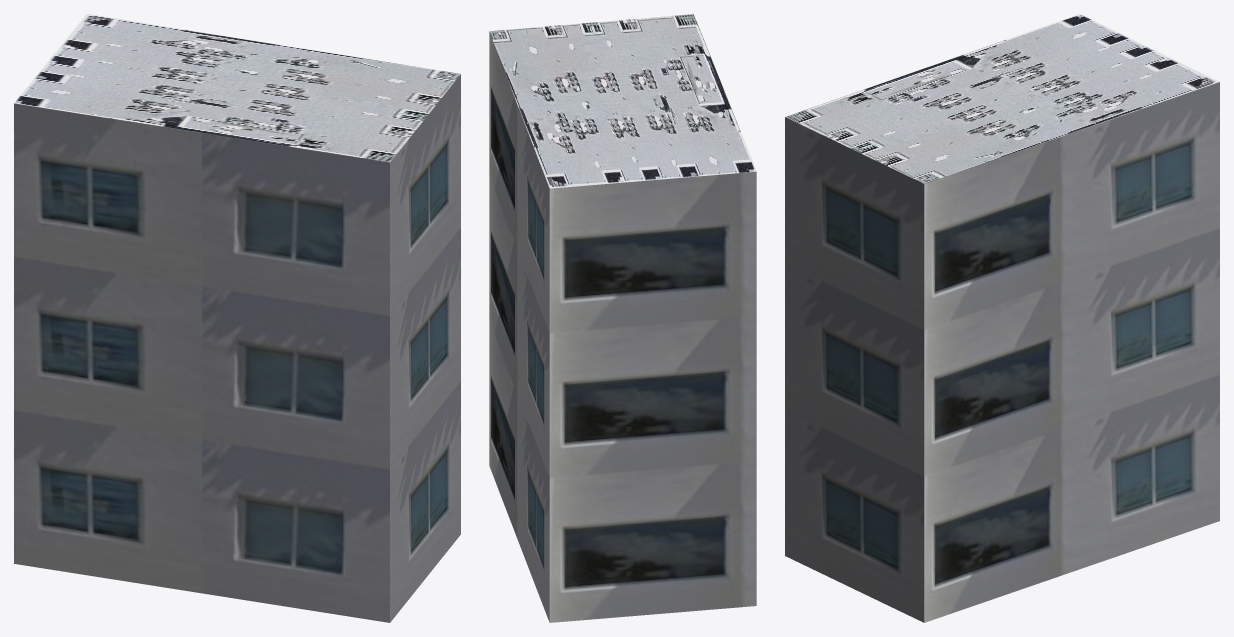
File: ResTex__3565.fbx
3 renders of one model, left to right at view 1: azimuth 30°, elevation 25°; view 2: azimuth 150°, elevation 25°; view 3: azimuth 270°, elevation 25°, orthographic. The views are drawn at different scales.
Visible parts, largest first — view 1: CityEngineMaterial_10_m, CityEngineMaterial_m; view 2: CityEngineMaterial_10_m, CityEngineMaterial_m; view 3: CityEngineMaterial_10_m, CityEngineMaterial_m.
Boxes of the visible parts, x1,y1,x2,y2 form: CityEngineMaterial_10_m: (14,74,460,622); CityEngineMaterial_m: (14,14,460,162); CityEngineMaterial_10_m: (489,32,756,622); CityEngineMaterial_m: (489,14,756,188); CityEngineMaterial_10_m: (785,82,1219,622); CityEngineMaterial_m: (785,14,1219,183).
Bounding box in the file's own units: 7.47 × 9 × 8.08.
Materials: 2 (2 with a texture image).
